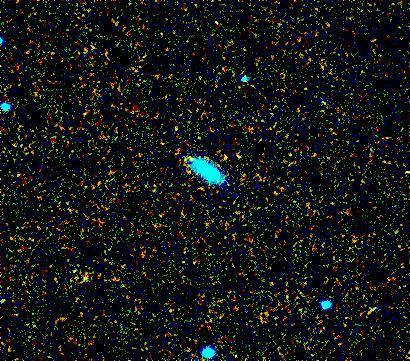star: (210, 143, 240, 173)
